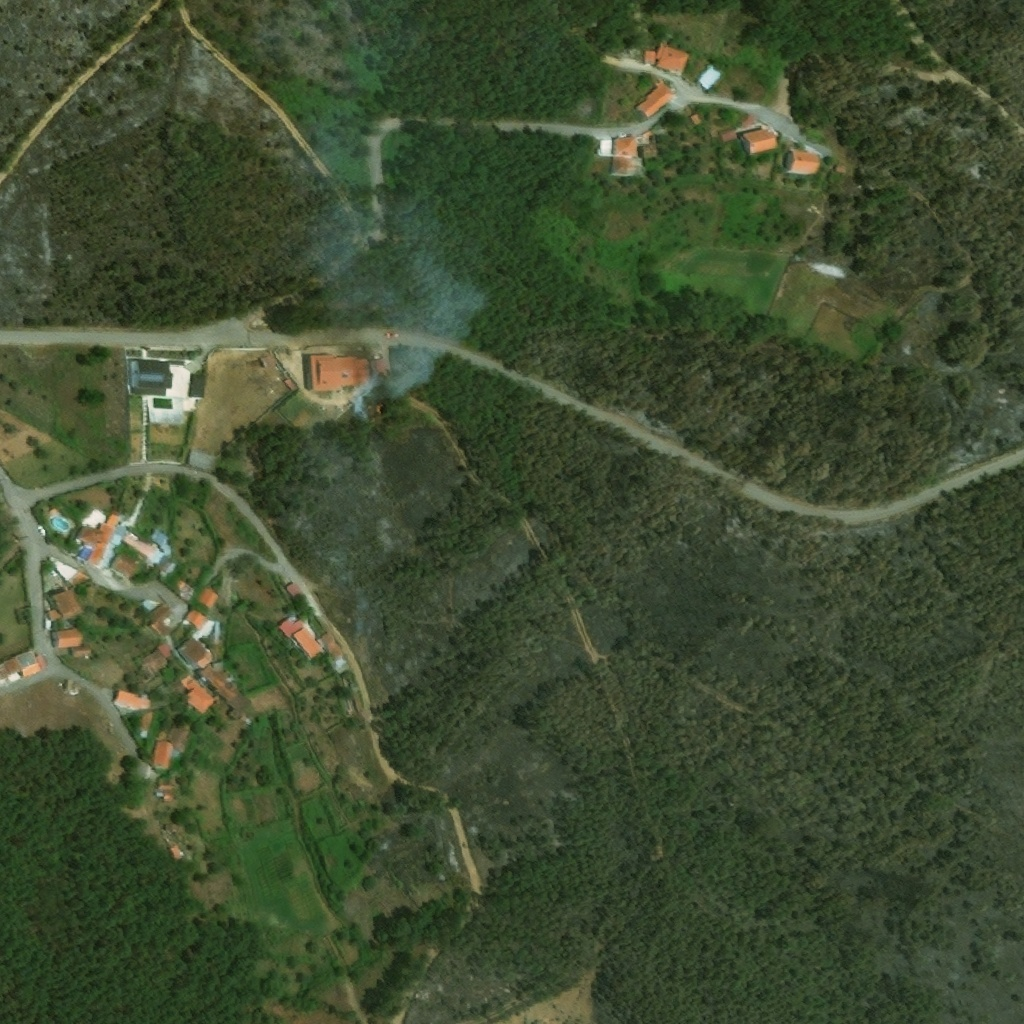0 no-damage: (127, 359, 207, 400), (197, 662, 248, 720), (305, 355, 385, 391), (77, 515, 127, 569), (299, 633, 350, 673), (0, 651, 48, 686), (152, 727, 190, 770), (598, 137, 637, 175), (636, 81, 675, 118), (180, 676, 215, 716), (45, 588, 83, 623), (139, 598, 172, 638), (641, 46, 688, 73), (52, 627, 91, 658), (175, 639, 212, 669), (742, 128, 778, 155), (787, 150, 820, 176), (138, 651, 168, 679), (113, 689, 152, 710), (278, 617, 307, 640), (186, 450, 215, 473), (111, 554, 138, 578), (697, 65, 721, 90), (182, 611, 208, 632), (197, 589, 220, 610), (174, 580, 195, 603), (138, 712, 155, 739), (129, 760, 150, 781), (157, 781, 176, 800), (285, 583, 303, 599), (639, 145, 657, 158), (719, 130, 737, 143), (169, 845, 183, 858), (284, 379, 297, 392), (260, 357, 274, 369), (66, 680, 80, 692), (691, 114, 702, 124), (48, 508, 58, 516)
